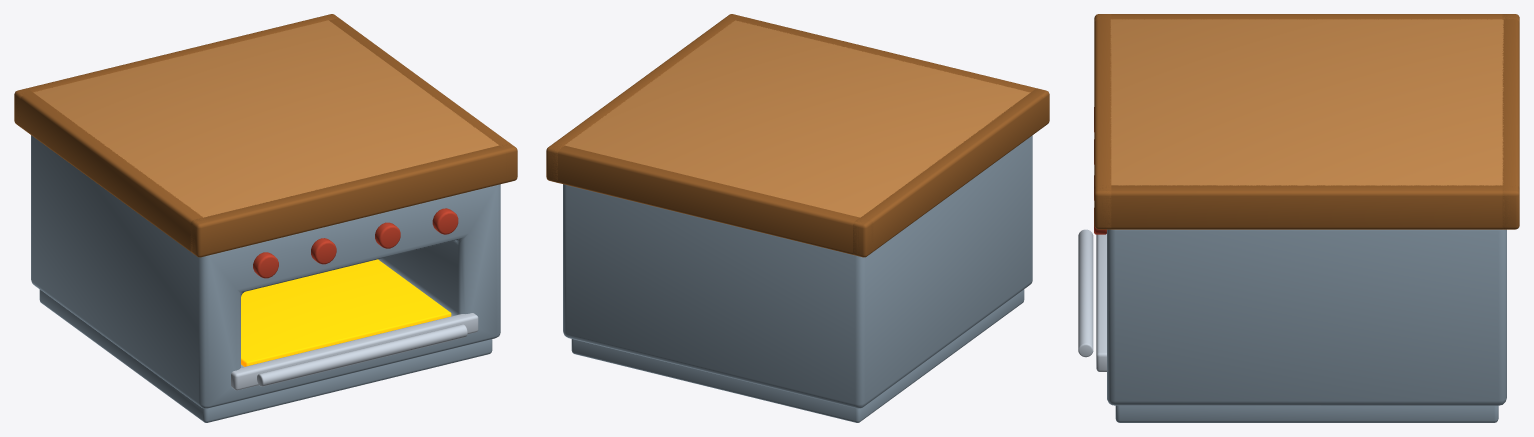
Rendered from oven.gltf.
3 views of the same model, side by side, from view 1: azimuth 30°, elevation 25°; view 2: azimuth 150°, elevation 25°; view 3: azimuth 270°, elevation 25° (orthographic). The views are drawn at different scales.
Visible parts, largest first — view 1: OvenPlinth; view 2: OvenPlinth; view 3: OvenPlinth.
Part boxes in pixels (bbox=[...]): OvenPlinth: bbox=[14, 14, 517, 422]; OvenPlinth: bbox=[546, 14, 1049, 422]; OvenPlinth: bbox=[1078, 14, 1519, 422].
Size of the model in its own units: 1 by 0.625 by 1.04.
